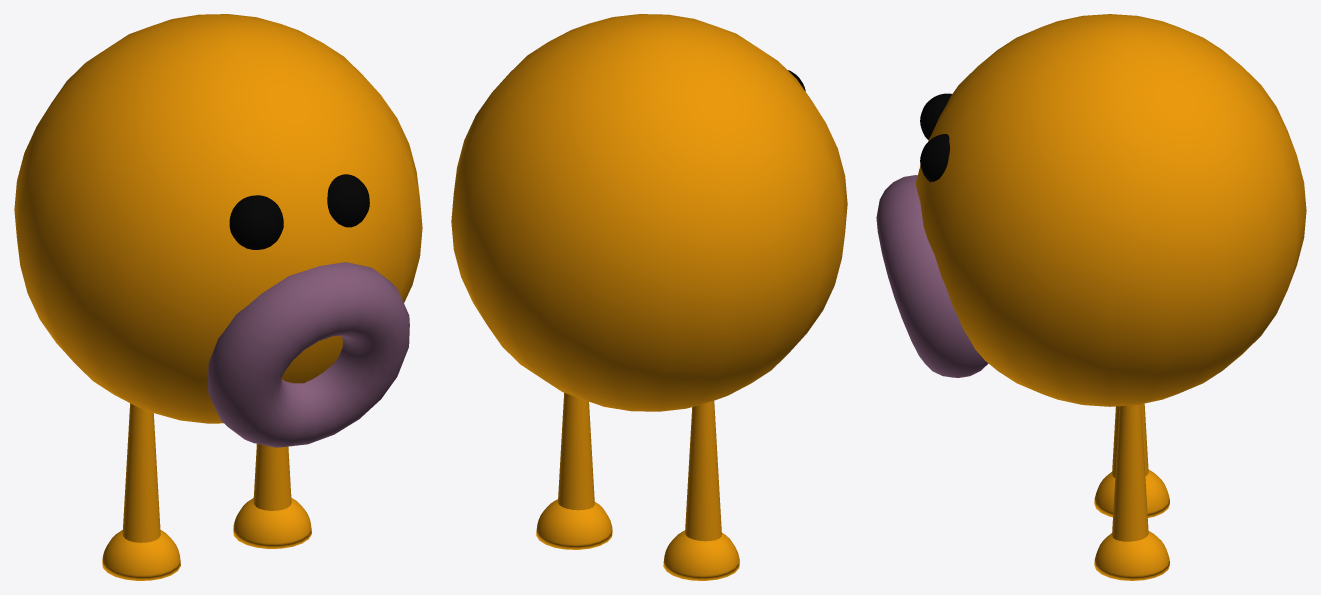
The model's file is Sloeri.fbx.
The picture shows the model from 3 angles, left to right: view 1: azimuth 30°, elevation 25°; view 2: azimuth 150°, elevation 25°; view 3: azimuth 270°, elevation 25°; orthographic projection. The views are drawn at different scales.
Parts seen in each view (by area): view 1: pSphere1, pTorus1, pCylinder3, pSphere5, pSphere6, pSphere2, pCylinder2, pSphere3; view 2: pSphere1, pCylinder3, pCylinder2, pSphere6, pSphere5; view 3: pSphere1, pTorus1, pCylinder2, pSphere6, pSphere5, pSphere3, pSphere2, pCylinder3.
Boxes of the visible parts, x1,y1,x2,y2 form: pSphere1: [14, 14, 422, 423]; pTorus1: [207, 262, 409, 447]; pCylinder3: [122, 403, 160, 542]; pSphere5: [102, 530, 180, 580]; pSphere6: [233, 498, 311, 548]; pSphere2: [229, 195, 283, 249]; pCylinder2: [253, 444, 291, 510]; pSphere3: [327, 174, 369, 227]; pSphere1: [451, 14, 847, 411]; pCylinder3: [685, 401, 721, 541]; pCylinder2: [558, 393, 594, 510]; pSphere6: [536, 499, 612, 549]; pSphere5: [663, 530, 739, 580]; pSphere1: [915, 14, 1306, 406]; pTorus1: [876, 175, 988, 377]; pCylinder2: [1112, 404, 1148, 541]; pSphere6: [1094, 531, 1169, 580]; pSphere5: [1094, 470, 1169, 517]; pSphere3: [920, 134, 949, 182]; pSphere2: [920, 93, 951, 139]; pCylinder3: [1112, 403, 1148, 477].
Size of the model in its own units: 2 by 2.82 by 2.19.
